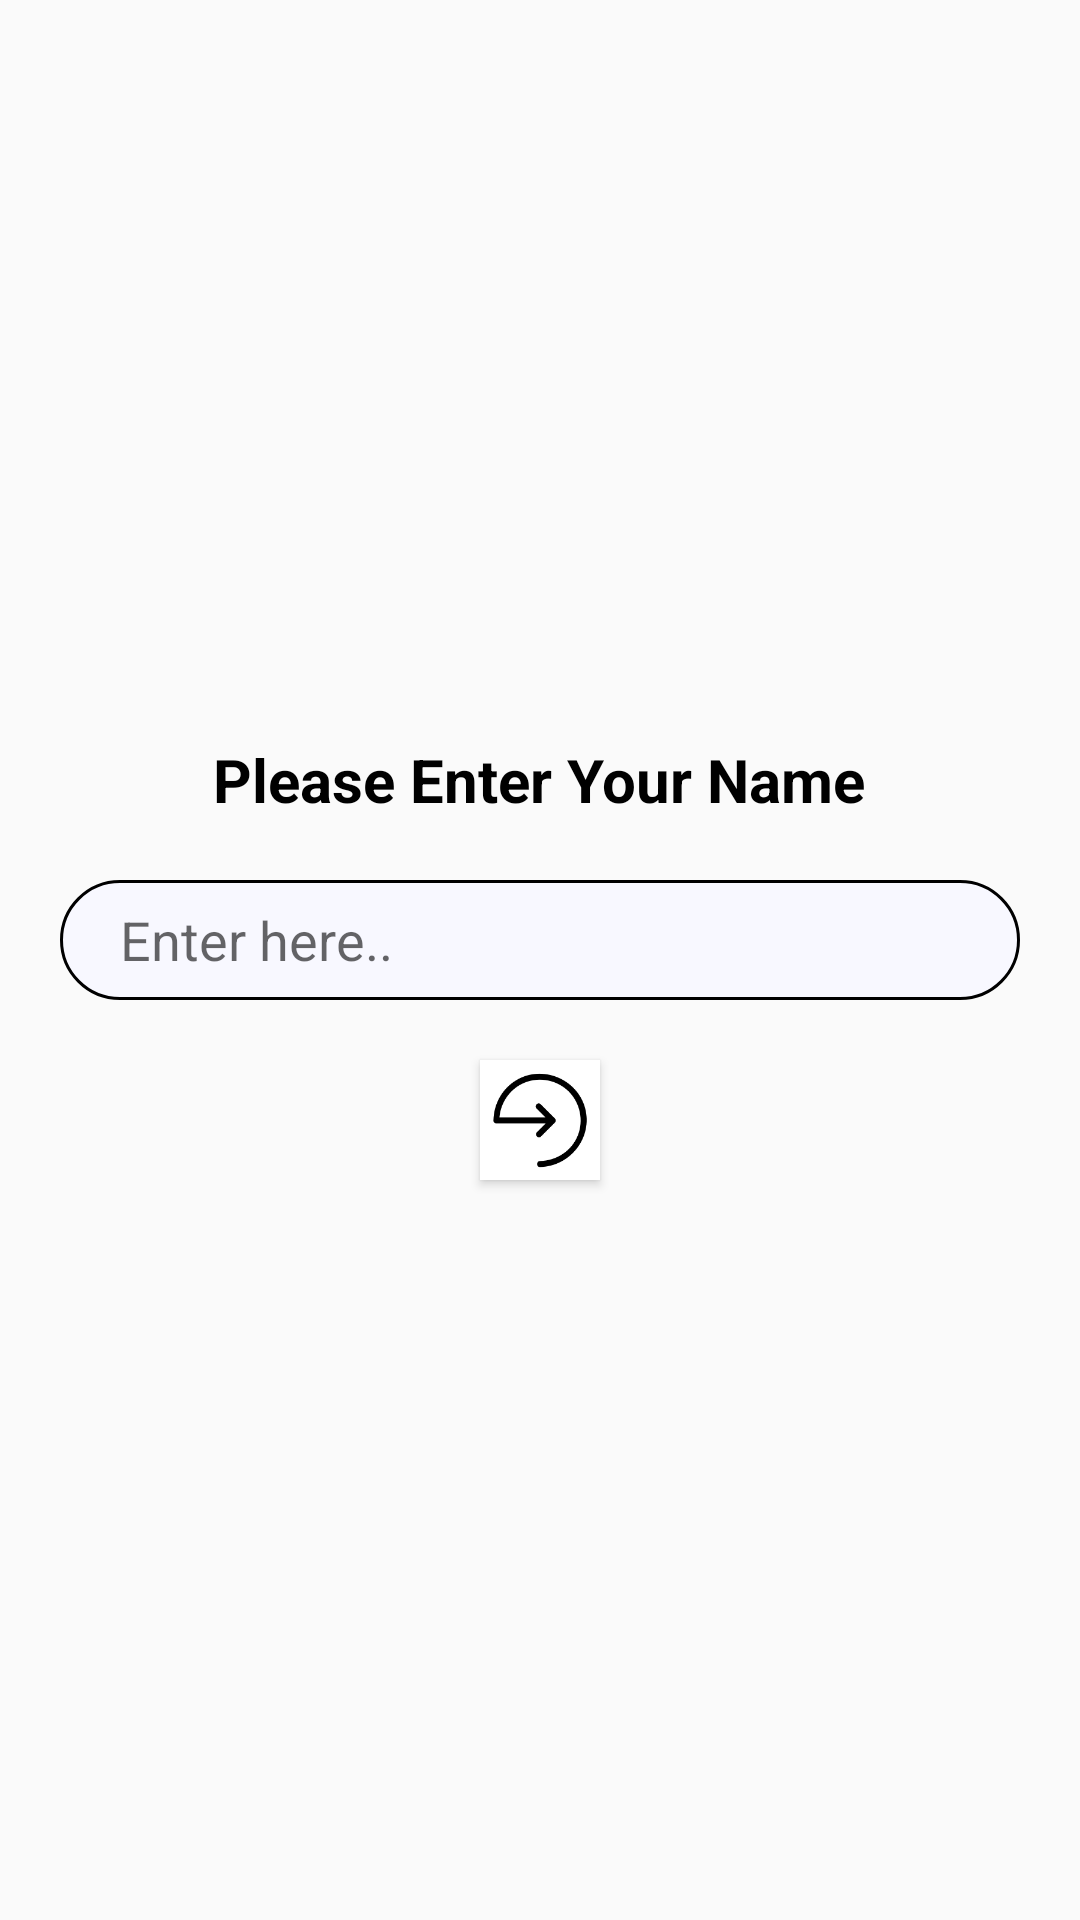

Icon click points for this 1080×1920 phone screenshot, format (x,y):
proceed: (540,1120)
